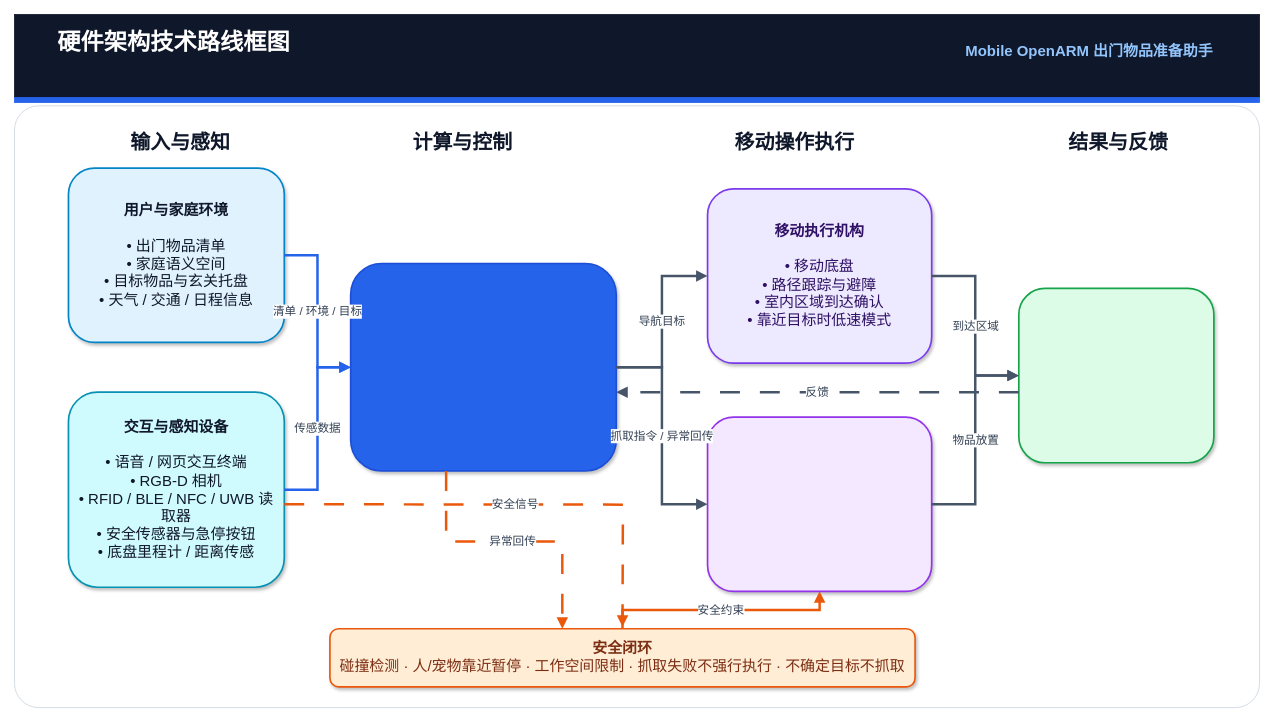
The diagram is 1274 pixels wide and 722 high, and some of its shapes have lost their labels. The shapes that lost their labels are listed below. From the top down, each one's centre as x and y in pixels, then its label:
point 484,368: 边缘计算与控制单元 • 任务协调与状态机 • 多源感知融合 • 导航与路径控制 • 机械臂 / 夹爪控制接口 • 安全监控与异常处理
point 1116,376: 作业输出 • 物品集中放置 • 任务状态更新 • 异常与建议提醒 • 出门前最终确认
point 820,505: 操作执行机构 • 机械臂 • 自适应夹爪 • 小物体 / 薄片 / 长条抓取 • 放置到玄关整理区
